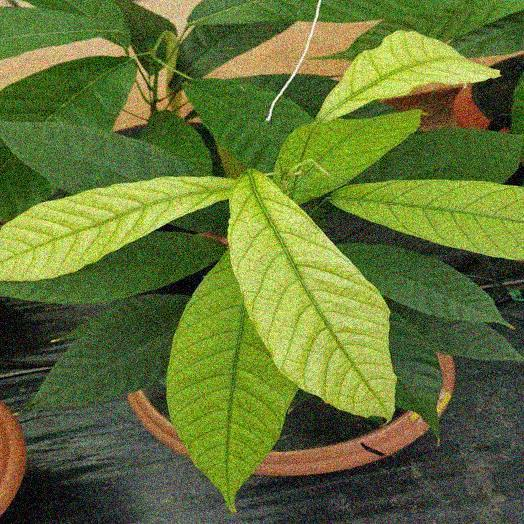Healthy Leaf: (29, 295, 188, 409), (0, 232, 224, 304), (0, 122, 203, 193), (338, 243, 504, 322), (185, 79, 312, 170), (1, 57, 136, 130), (320, 0, 523, 44), (354, 128, 517, 182), (394, 306, 523, 360), (0, 8, 128, 59), (178, 24, 289, 77), (391, 314, 441, 430), (136, 110, 210, 174), (188, 0, 316, 25), (286, 75, 335, 116), (247, 75, 284, 90)
Iron: (228, 171, 395, 416), (167, 253, 296, 510), (0, 176, 235, 279), (317, 31, 498, 121), (330, 180, 523, 258), (276, 110, 420, 203)
